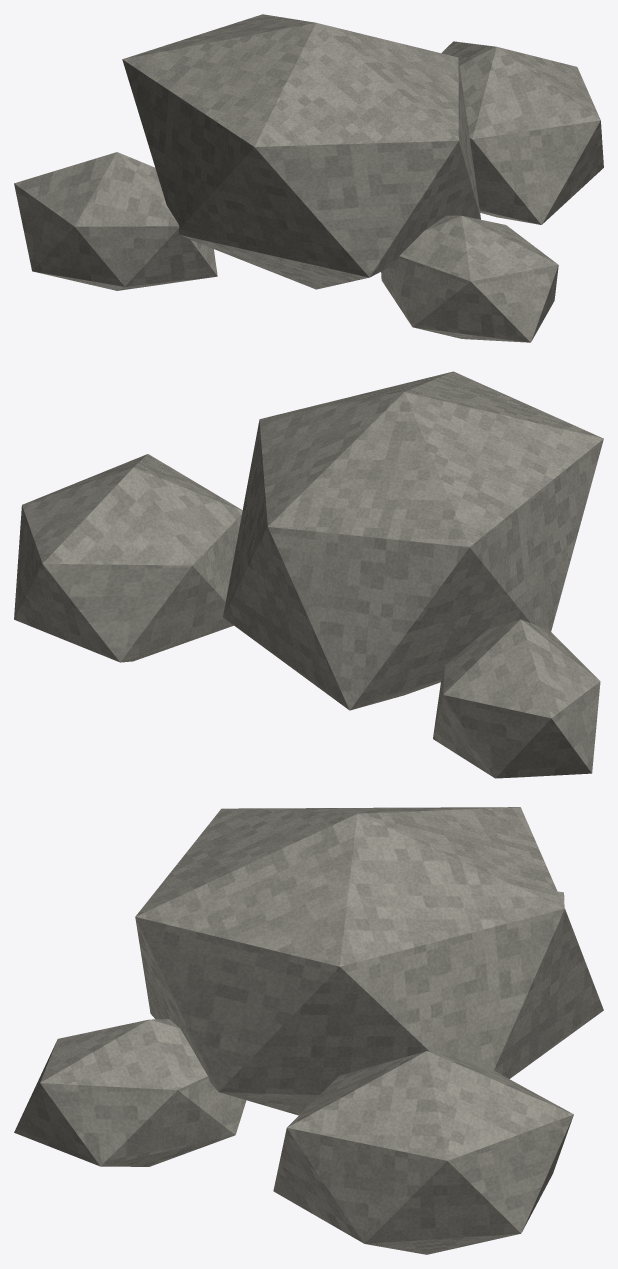
3 renders of one model, top to bottom at view 1: azimuth 30°, elevation 25°; view 2: azimuth 150°, elevation 25°; view 3: azimuth 270°, elevation 25°, orthographic. The views are drawn at different scales.
Visible parts, largest first — view 1: ST2-T04_Mesh; view 2: ST2-T04_Mesh; view 3: ST2-T04_Mesh.
Boxes of the visible parts, x1=… form: ST2-T04_Mesh: x1=14, y1=14, x2=603, y2=342; ST2-T04_Mesh: x1=14, y1=371, x2=603, y2=778; ST2-T04_Mesh: x1=14, y1=807, x2=603, y2=1254.
Bounding box in the file's own units: 3.13 × 1.52 × 2.55.
Materials: 1 (1 with a texture image).
